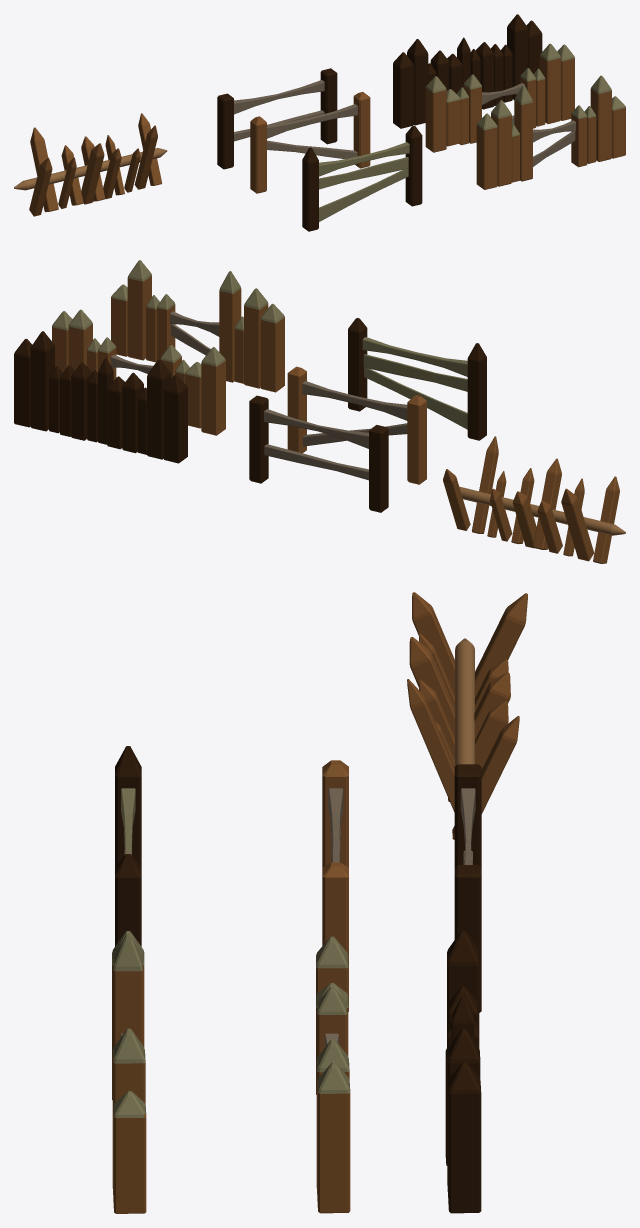
File: fence1.fbx
3 views of the same model, one above another, from view 1: azimuth 30°, elevation 25°; view 2: azimuth 150°, elevation 25°; view 3: azimuth 270°, elevation 25° (orthographic). The views are drawn at different scales.
Parts seen in each view (by area): view 1: Cube.012, Cube.024, Cube.033, Cube.042, Cube.001, Cube, Cube.004, Cube.002, Cube.005, Cube.003, Cylinder, Cube.010 (+1 smaller); view 2: Cube.024, Cube.012, Cube.042, Cube.033, Cube.001, Cube.002, Cube, Cube.004, Cube.003, Cube.005, Cylinder, Cube.010; view 3: Cube.042, Cube.024, Cube.012, Cube.033, Cube.002, Cube, Cube.004, Cylinder, Cube.005, Cube.003.
Part boxes in pixels (<box>): Cube.012: <box>476,75,625,189</box>; Cube.024: <box>393,14,542,128</box>; Cube.033: <box>425,43,574,152</box>; Cube.042: <box>29,113,161,216</box>; Cube.001: <box>319,142,409,221</box>; Cube: <box>302,125,422,231</box>; Cube.004: <box>250,92,370,193</box>; Cube.002: <box>217,68,337,169</box>; Cube.005: <box>267,104,357,158</box>; Cube.003: <box>234,80,324,141</box>; Cylinder: <box>14,148,167,190</box>; Cube.010: <box>533,120,575,166</box>; Cube.024: <box>14,331,187,463</box>; Cube.012: <box>111,260,284,392</box>; Cube.042: <box>443,436,619,563</box>; Cube.033: <box>52,309,225,435</box>; Cube.001: <box>362,337,467,429</box>; Cube.002: <box>249,395,388,512</box>; Cube: <box>348,318,486,440</box>; Cube.004: <box>287,366,426,484</box>; Cube.003: <box>264,409,368,480</box>; Cube.005: <box>302,381,407,446</box>; Cylinder: <box>459,486,625,535</box>; Cube.010: <box>170,311,219,355</box>; Cube.042: <box>407,592,527,839</box>; Cube.024: <box>445,931,481,1213</box>; Cube.012: <box>112,931,146,1213</box>; Cube.033: <box>316,936,350,1213</box>; Cube.002: <box>454,764,481,1012</box>; Cube: <box>115,746,141,946</box>; Cube.004: <box>322,760,348,1011</box>; Cylinder: <box>455,638,474,766</box>; Cube.005: <box>328,788,343,862</box>; Cube.003: <box>460,788,475,864</box>.
Bounding box in the file's own units: 1798 × 305 × 618.
